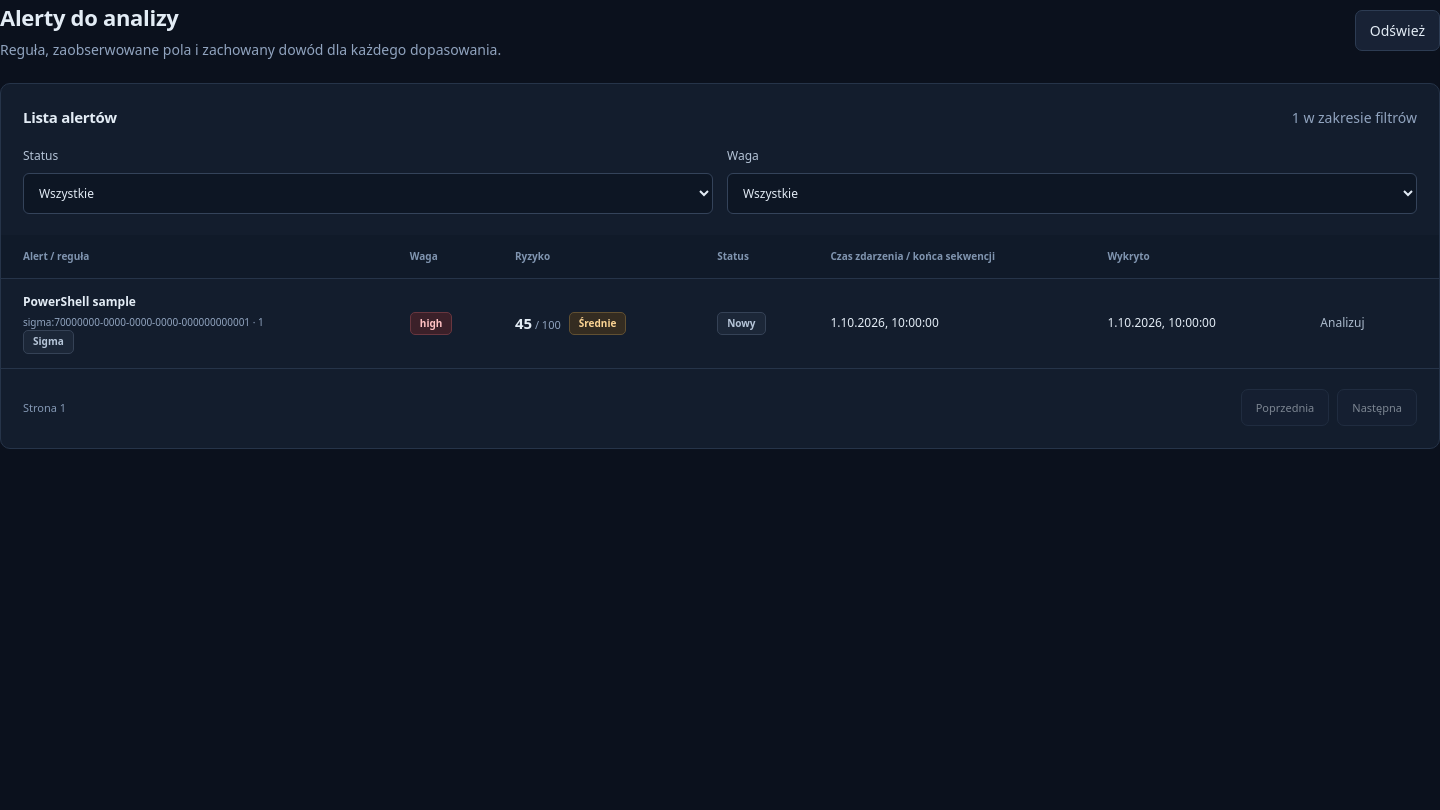
reads a retained v2 historical calculation alongside a Sigma v3 calculation
Click the button "Analizuj".
click(1342, 323)  # box [1305,304,1380,343]
(page scrolled)
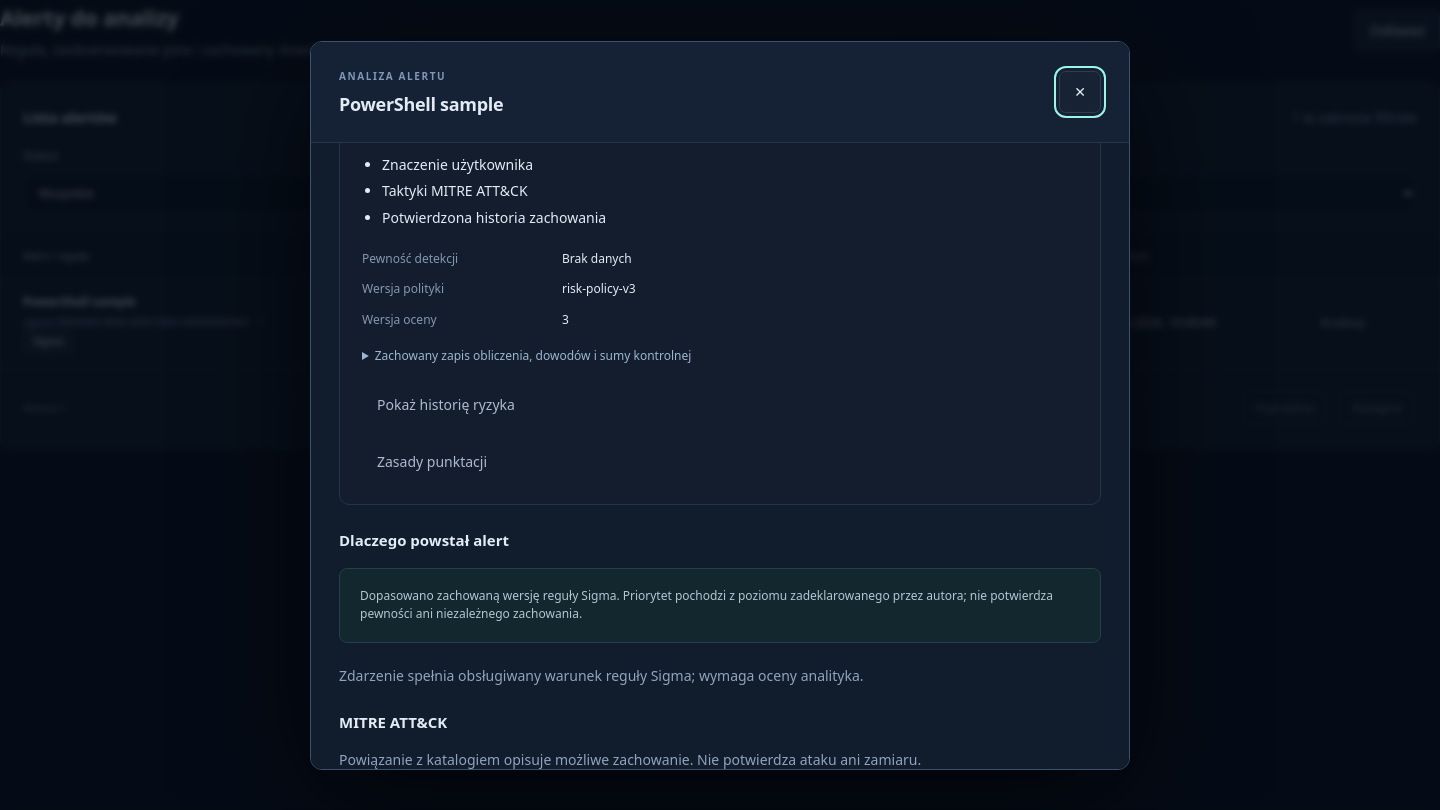
Click the button "Pokaż historię ryzyka".
click(446, 405)  # box [362,384,530,426]
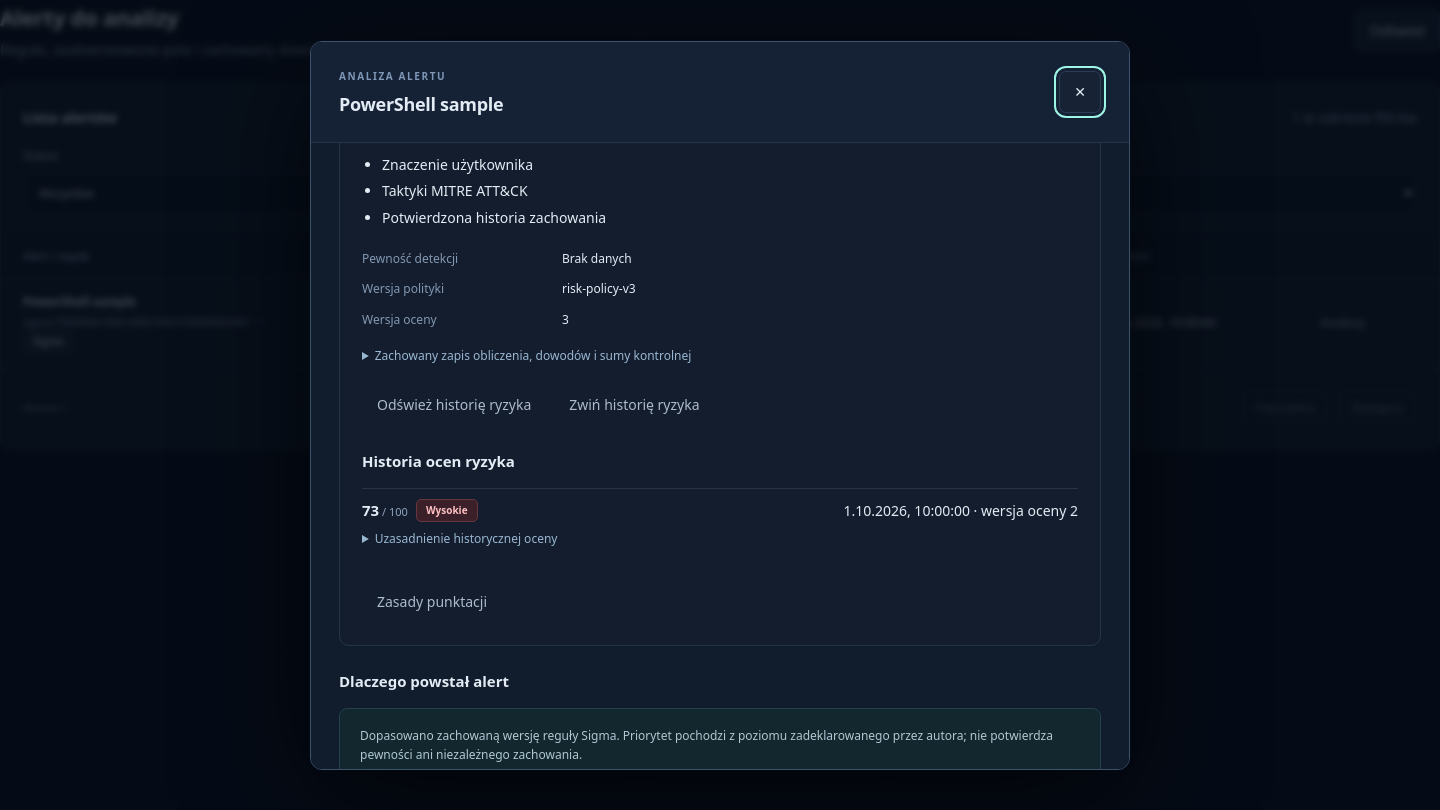
Click the heading "Uzasadnienie historycznej oceny".
click(466, 539)  # box [375,530,558,548]
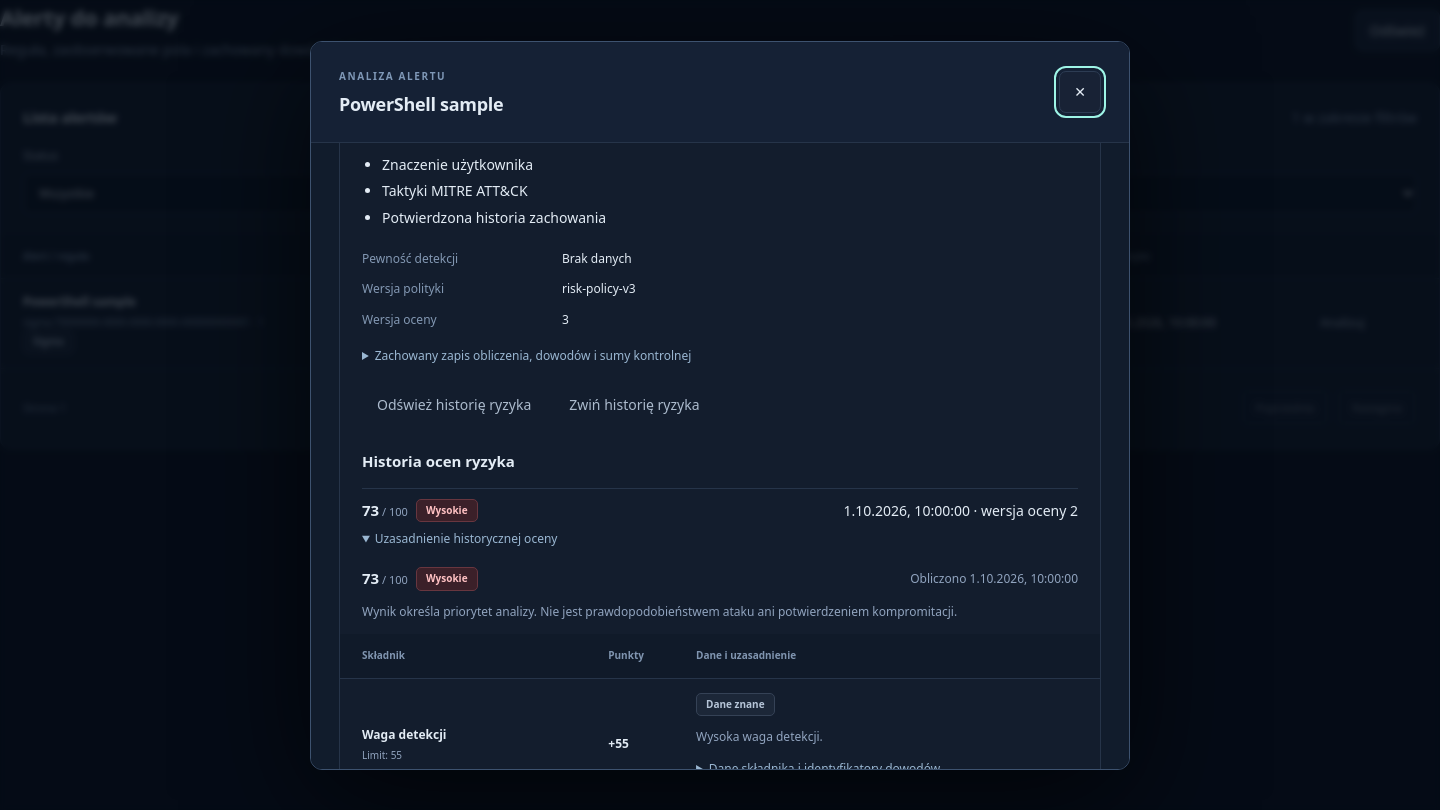
Check: the text "risk-policy-v3" is shown, box [562,280,636,297]
Check: the text "+55" is shown, box [592,679,680,770]
